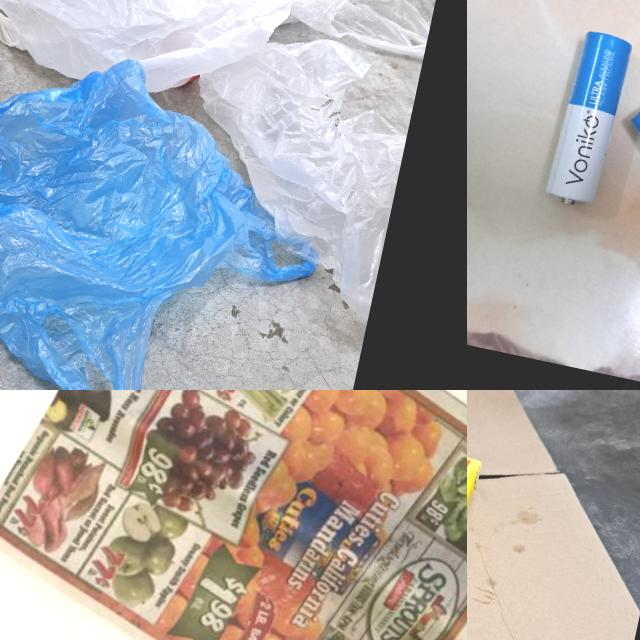bateria: (541, 25, 634, 212), (605, 88, 640, 262)
papel: (0, 390, 467, 640)
papelão: (467, 390, 640, 640)
sacola plástica: (0, 22, 349, 390), (154, 15, 422, 325), (0, 0, 312, 116), (213, 0, 442, 58)
